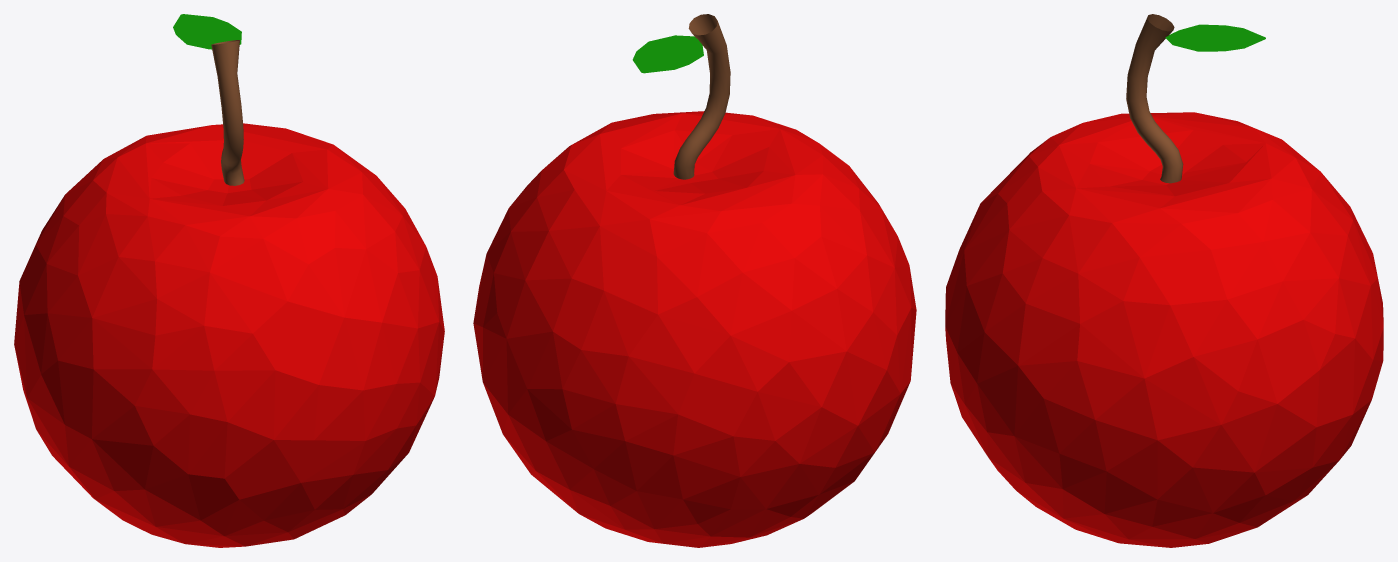
The model's file is apple.fbx.
3 views of the same model, side by side, from view 1: azimuth 30°, elevation 25°; view 2: azimuth 150°, elevation 25°; view 3: azimuth 270°, elevation 25° (orthographic). The views are drawn at different scales.
Visible parts, largest first — view 1: 平面; view 2: 平面; view 3: 平面.
Boxes of the visible parts, <box> form: 平面: <box>14,14,444,547</box>; 平面: <box>473,14,916,547</box>; 平面: <box>945,14,1383,547</box>.
Size of the model in its own units: 1081 by 1365 by 1071.
